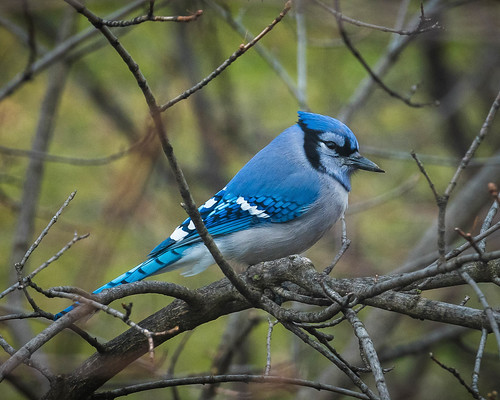animal: (113, 112, 377, 298)
